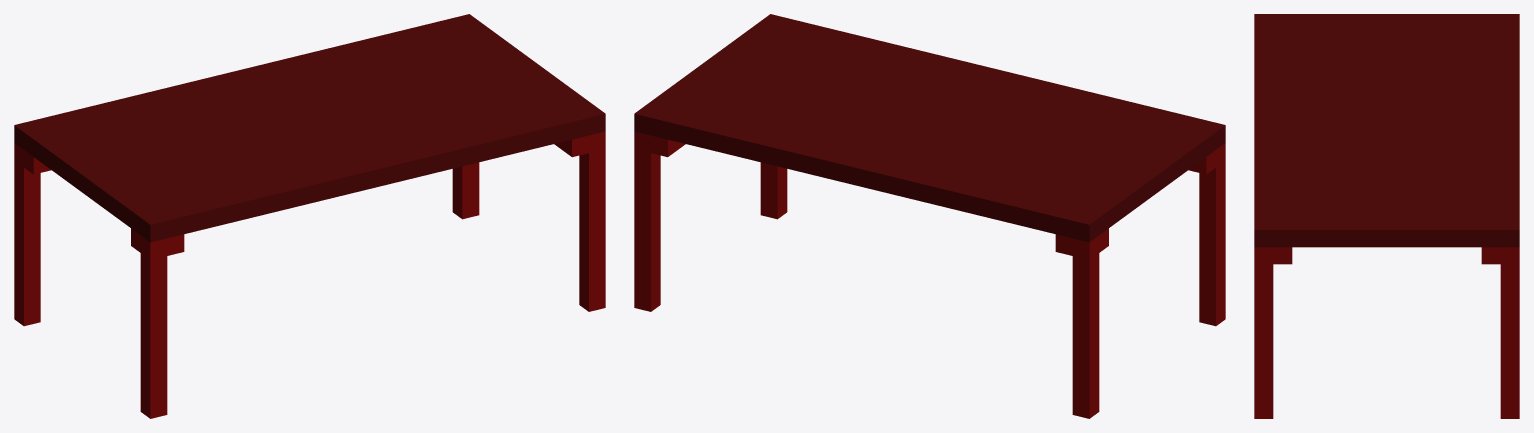
File: mesa.obj
3 views of the same model, side by side, from view 1: azimuth 30°, elevation 25°; view 2: azimuth 150°, elevation 25°; view 3: azimuth 270°, elevation 25° (orthographic). The views are drawn at different scales.
Visible parts, largest first — view 1: mesh; view 2: mesh; view 3: mesh.
Part boxes in pixels (<box>): mesh: <box>14,14,605,418</box>; mesh: <box>634,14,1225,418</box>; mesh: <box>1254,14,1519,418</box>.
Size of the model in its own units: 2.7 by 1.1 by 1.4.
